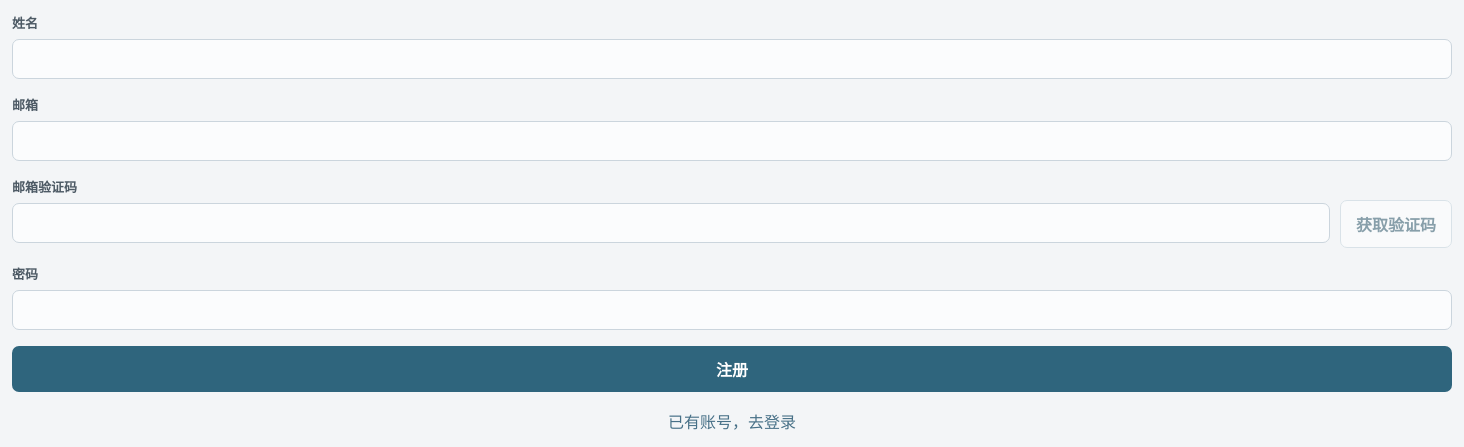
Test case: web app › keeps registration-code cooldown isolated per email address
Type "first@example.com" into the field labelled "邮箱".
click(732, 141); type("first@example.com")  # box [12,121,1452,161]
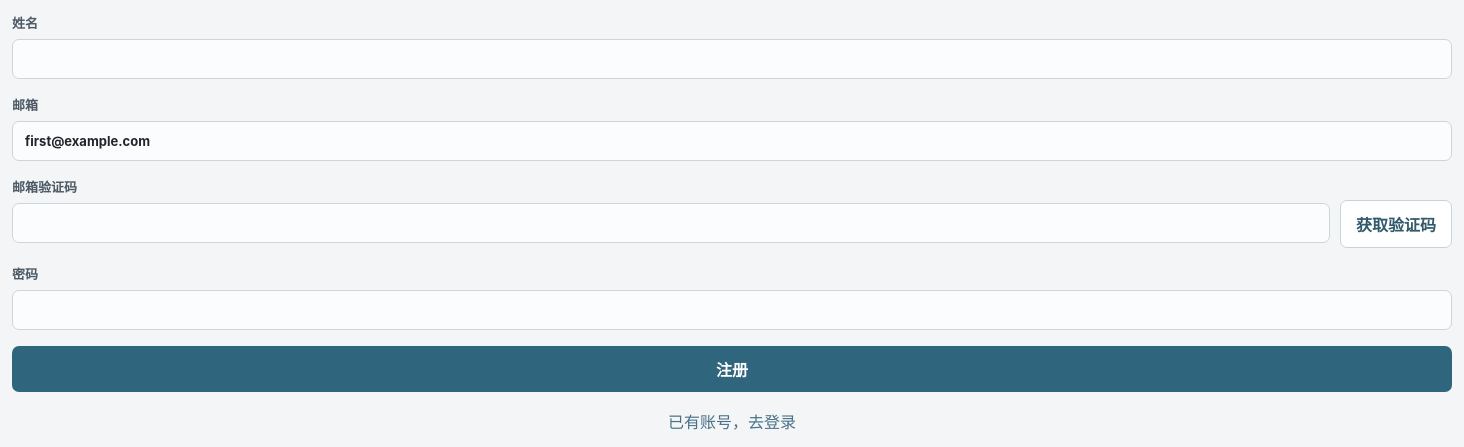
Click the button "获取验证码".
click(1396, 224)  # box [1340,200,1452,248]
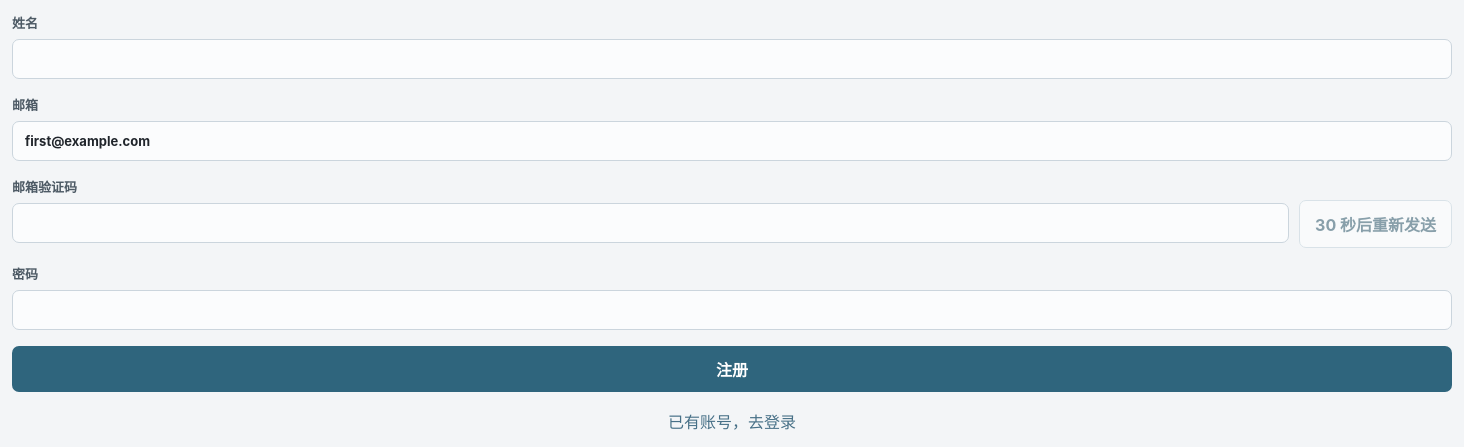
Expected: the button "30 秒后重新发送" is shown, [1299,200,1452,248]
Replace the text in the field labelled "邮箱" with "second@example.com" at {"x": 732, "y": 141}, box [12,121,1452,161]
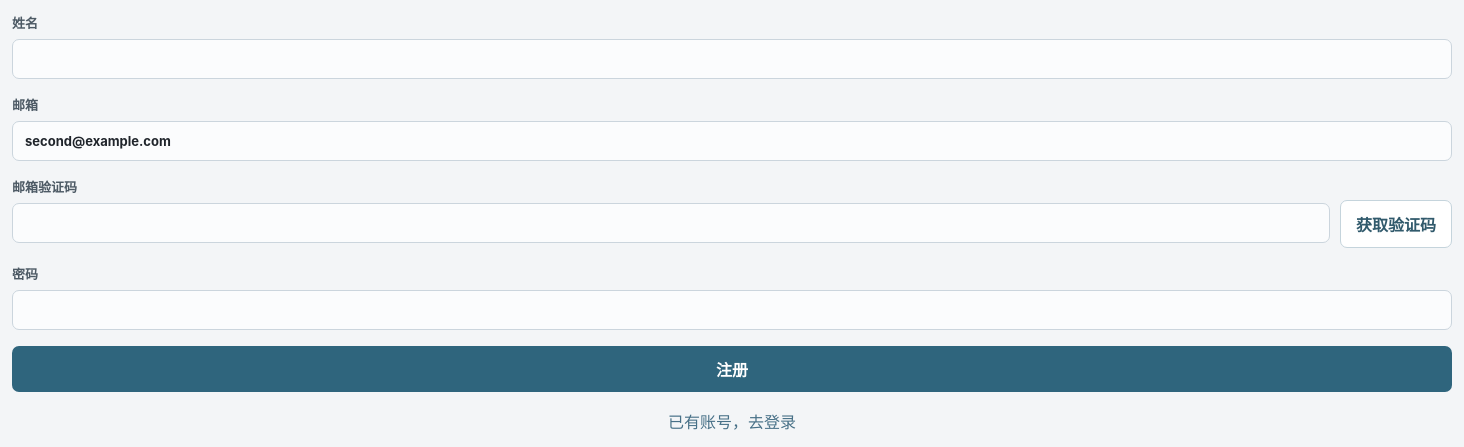
Expected: the button "获取验证码" is enabled, [1340,200,1452,248]
